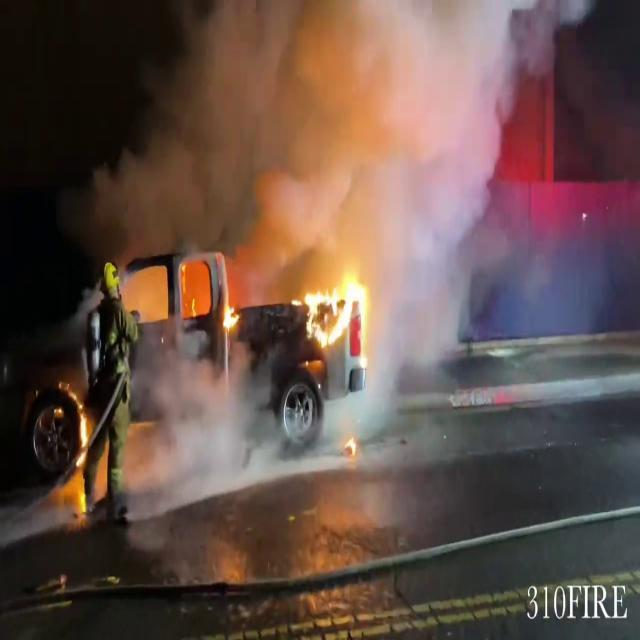Fire: (294, 258, 372, 366)
Smoke: (83, 0, 537, 313), (116, 331, 370, 506)
